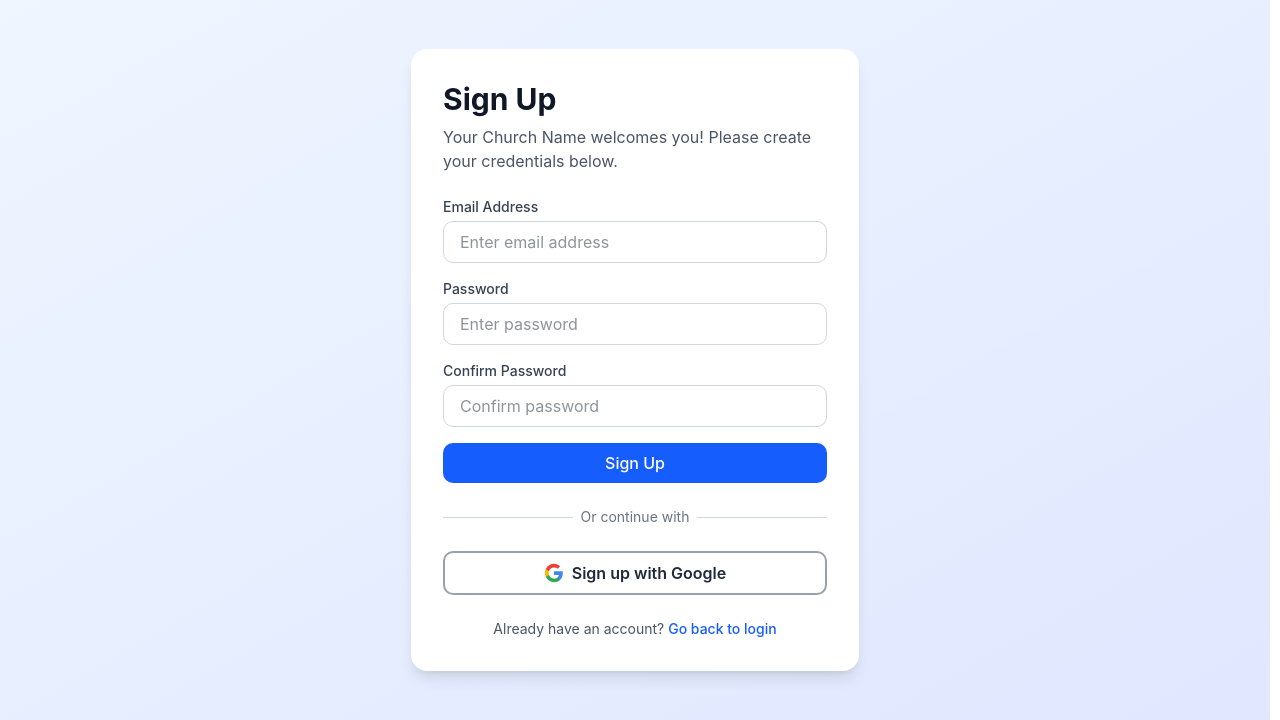
Test case: Signup page › verifies password length requirement validation
Type "shortpass@example.com" into the field with placeholder "Enter email address" at point(635, 242), box x1=443 y1=221 x2=827 y2=263
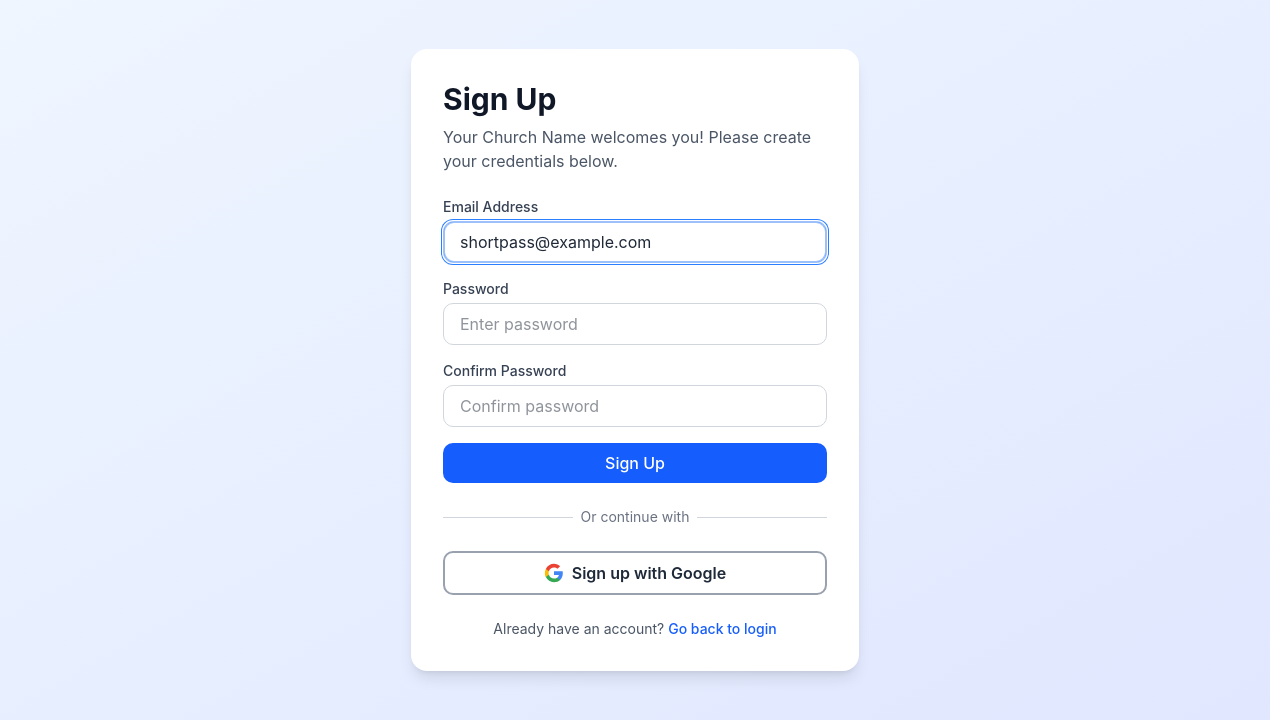
Type "Ab!1" into the password field with placeholder "Enter password" at point(635, 324), box x1=443 y1=303 x2=827 y2=345
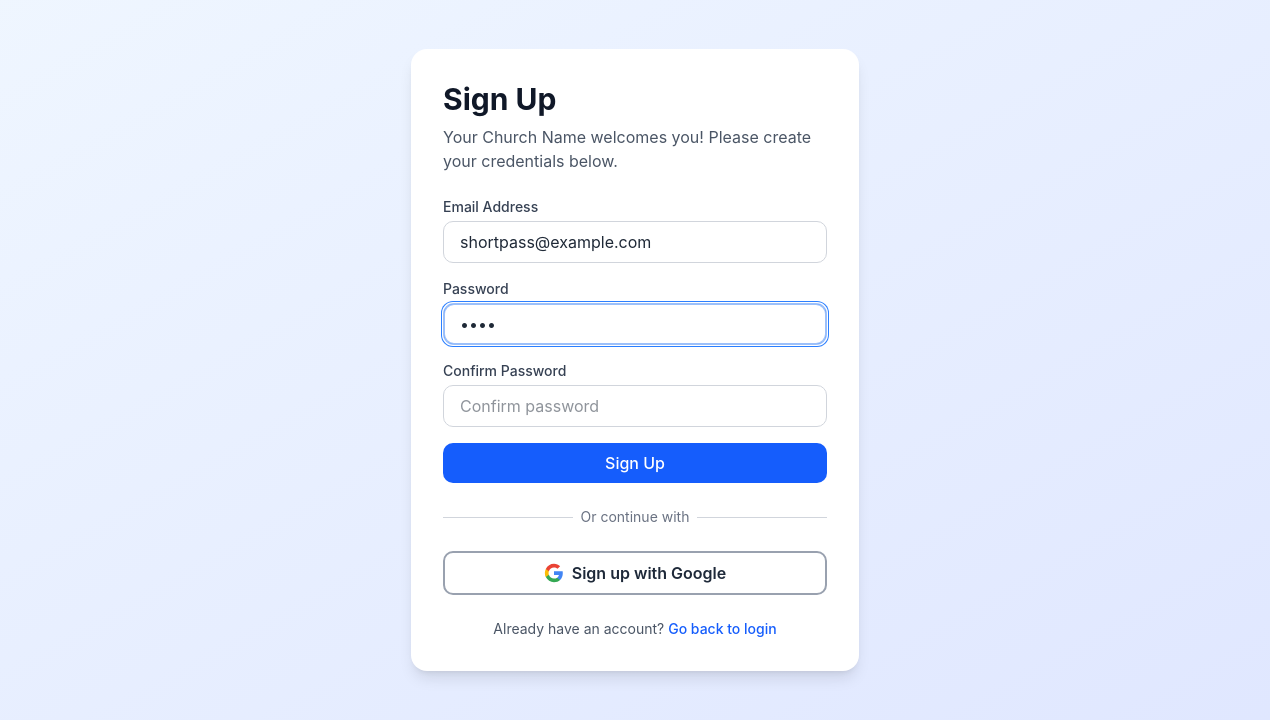
Type "Ab!1" into the password field with placeholder "Confirm password" at point(635, 406), box x1=443 y1=385 x2=827 y2=427
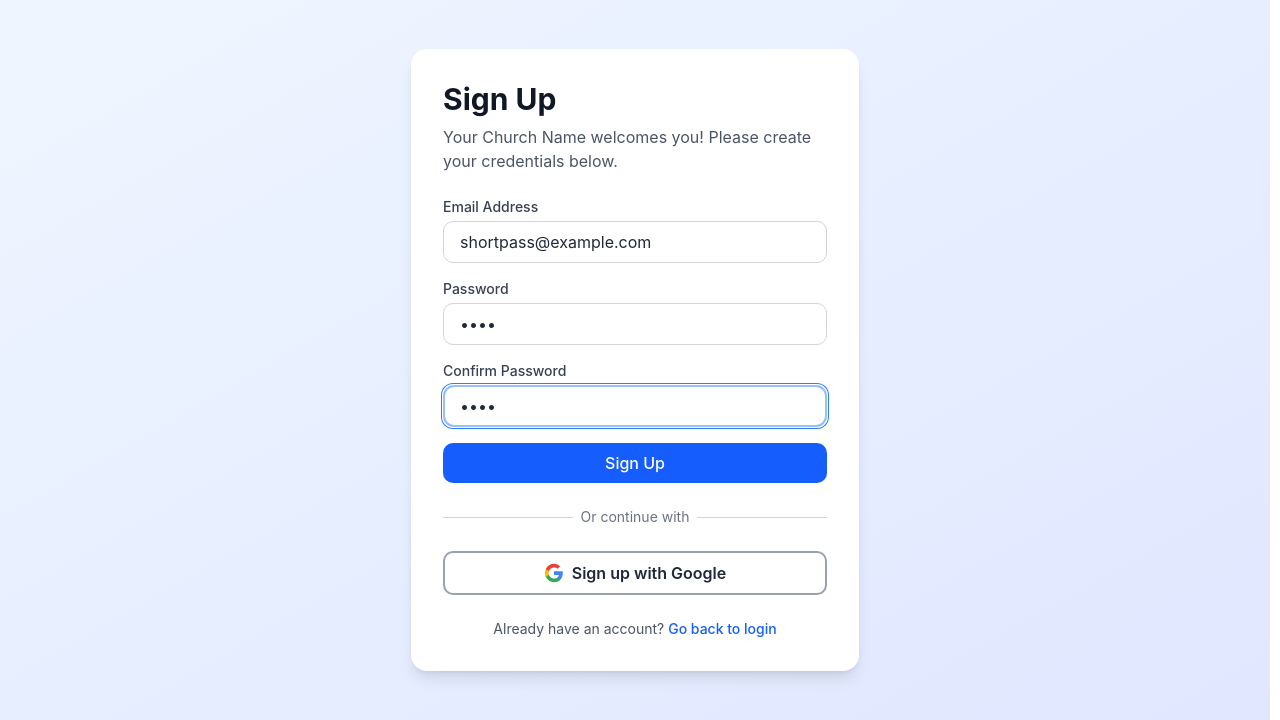
Click the submit button at point(635, 463), box x1=443 y1=443 x2=827 y2=483
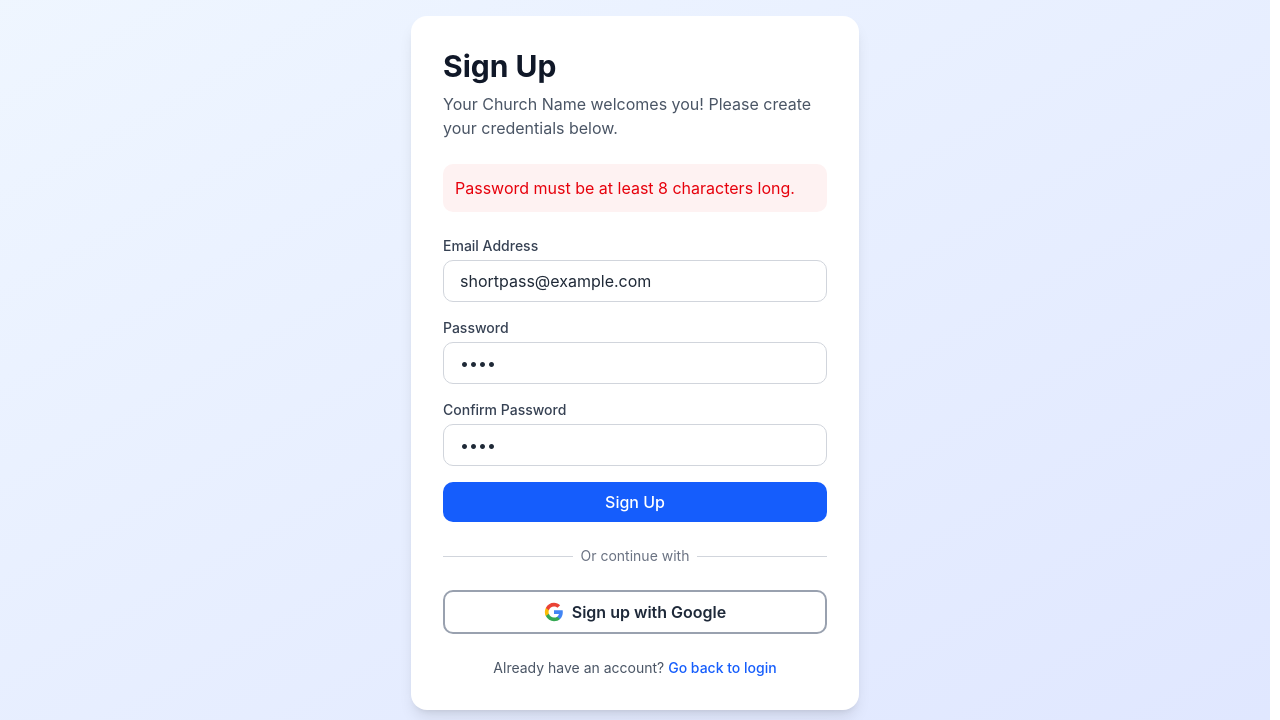
Result: the text "Password must be at least 8 characters long" is shown at x1=455 y1=178 x2=795 y2=198
